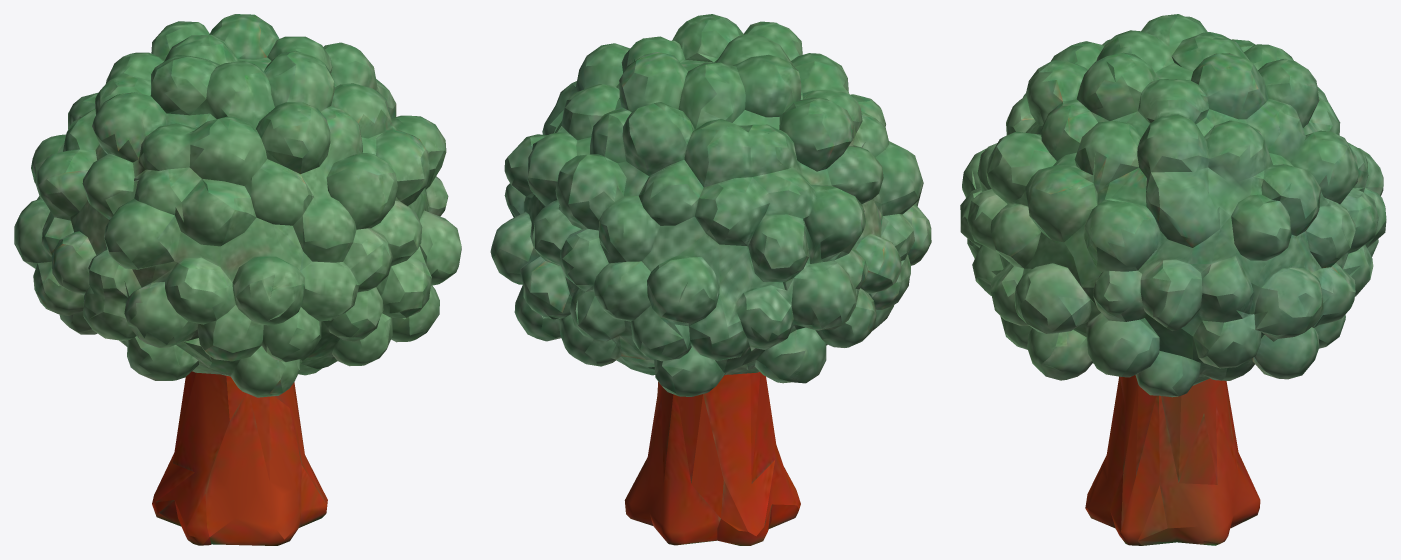
The model's file is tree.54e5fabe.glb.
3 renders of one model, left to right at view 1: azimuth 30°, elevation 25°; view 2: azimuth 150°, elevation 25°; view 3: azimuth 270°, elevation 25°, orthographic.
Visible parts, largest first — view 1: output_unwrapped; view 2: output_unwrapped; view 3: output_unwrapped.
Boxes of the visible parts, <box> form: output_unwrapped: <box>14,14,461,545</box>; output_unwrapped: <box>490,14,931,545</box>; output_unwrapped: <box>960,14,1386,545</box>.
Size of the model in its own units: 1.56 by 1.9 by 1.54.
Materials: 1 (1 with a texture image).
